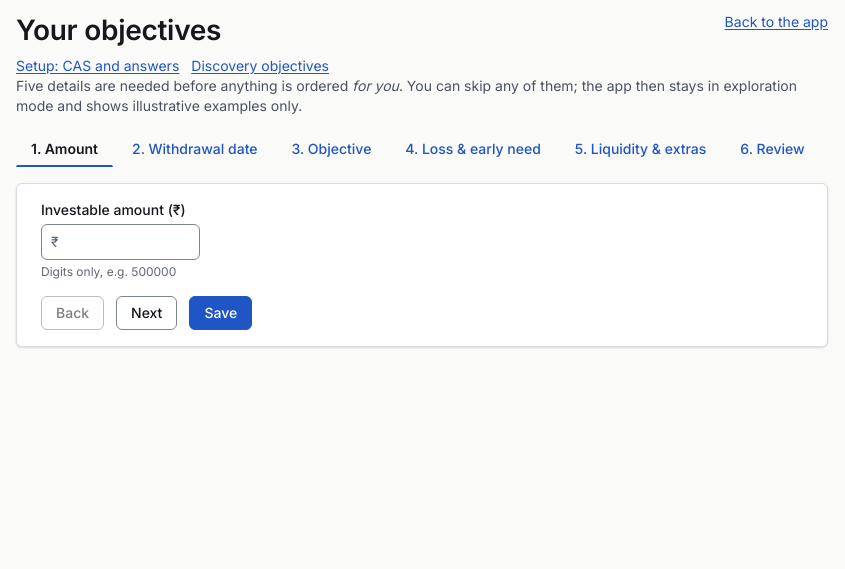
Test: Onboarding: tax regime and slab (walkthrough 2026-10-15) › the growth/loss message is not shown before the loss question is answered
The width and height of the screenshot is (845, 569).
Click the button "3. Objective".
click(331, 149)  # box [276,132,386,166]
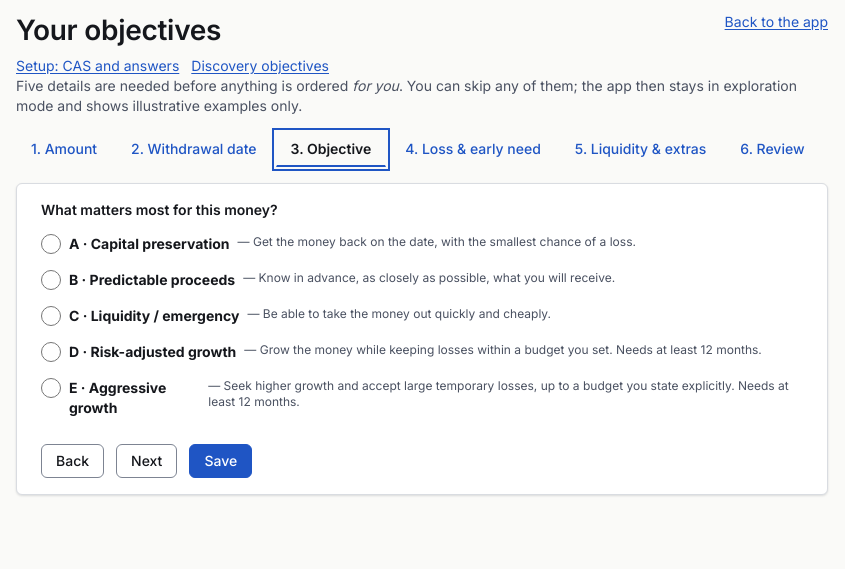
Click the radio button labelled "Risk-adjusted growth".
click(51, 352)  # box [41,342,61,362]
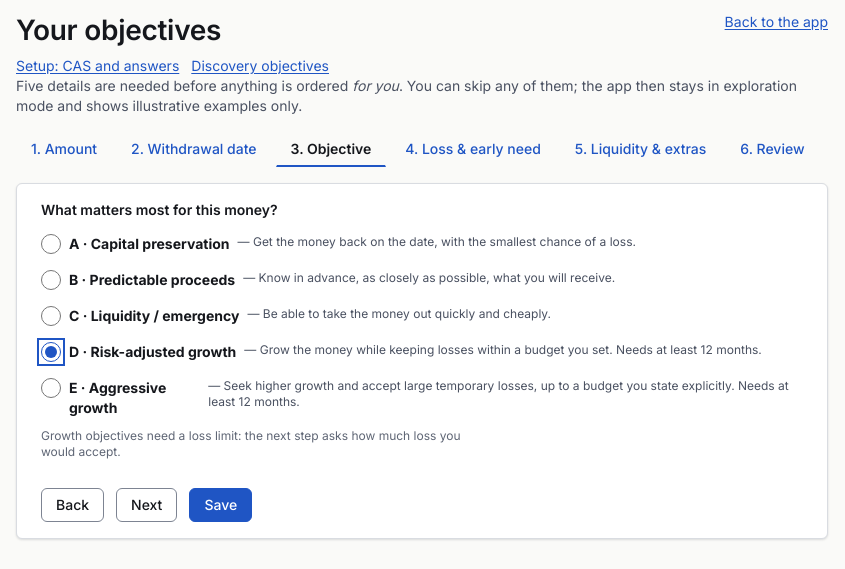
Click the button "4. Loss & early need".
click(473, 149)  # box [390,132,556,166]
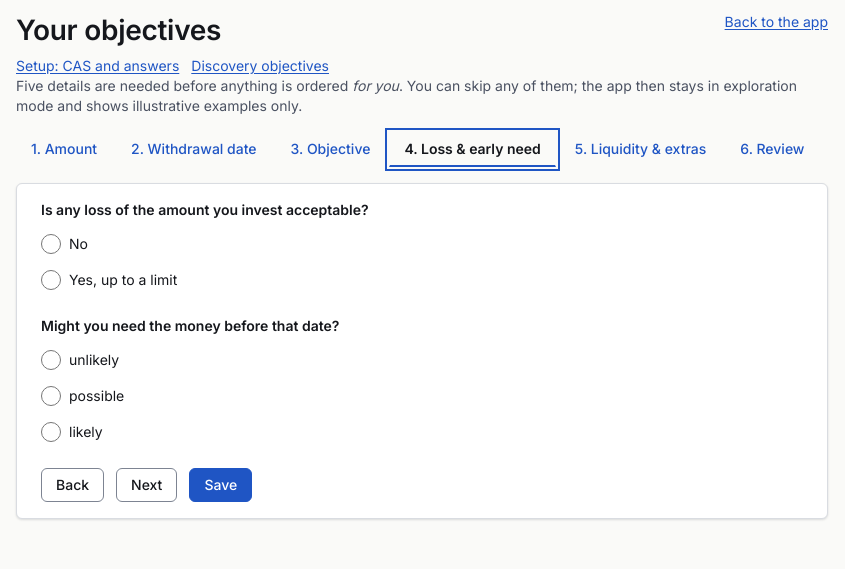
Check: the text "which needs a loss limit" is not shown
Click the radio button labelled "No".
click(51, 244)  # box [41,234,61,254]
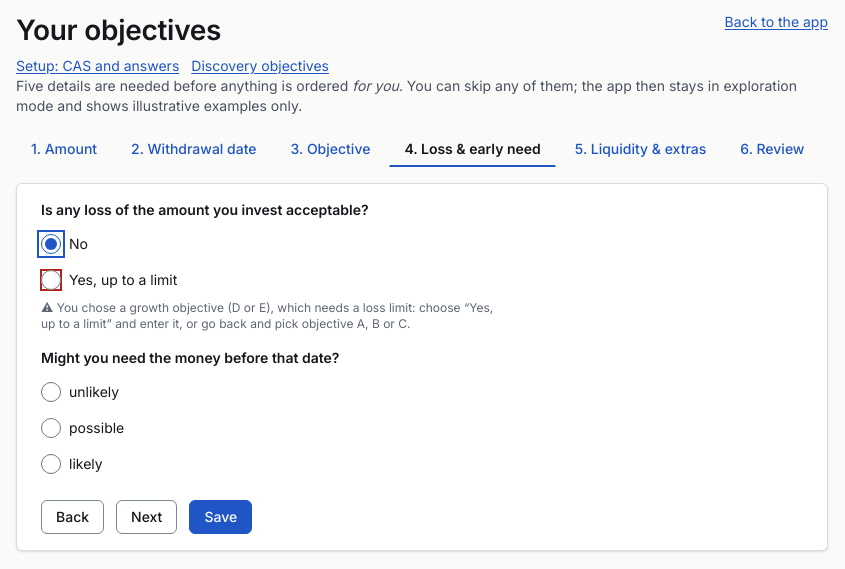
Check: the text "which needs a loss limit" is shown, box [41,300,493,331]
